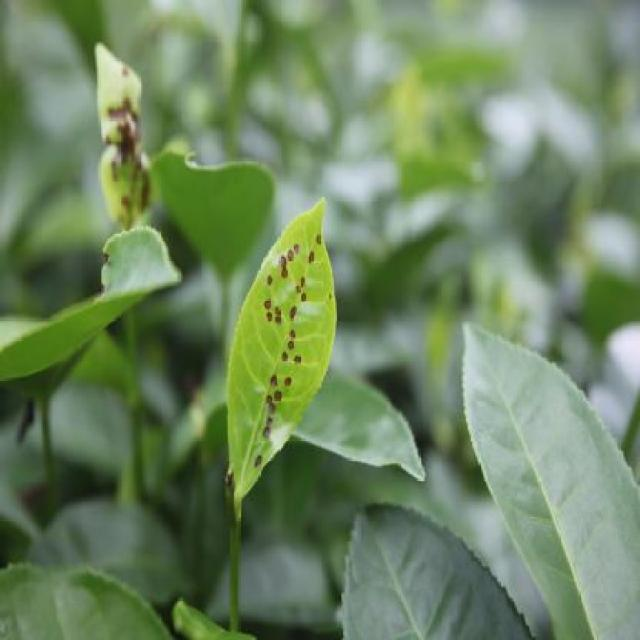Tea Mosquito bug infested leaf: (218, 195, 356, 494)
